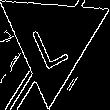L_NW: (30, 10, 75, 69)
